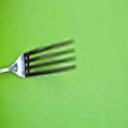Fork: (1, 39, 82, 81)
